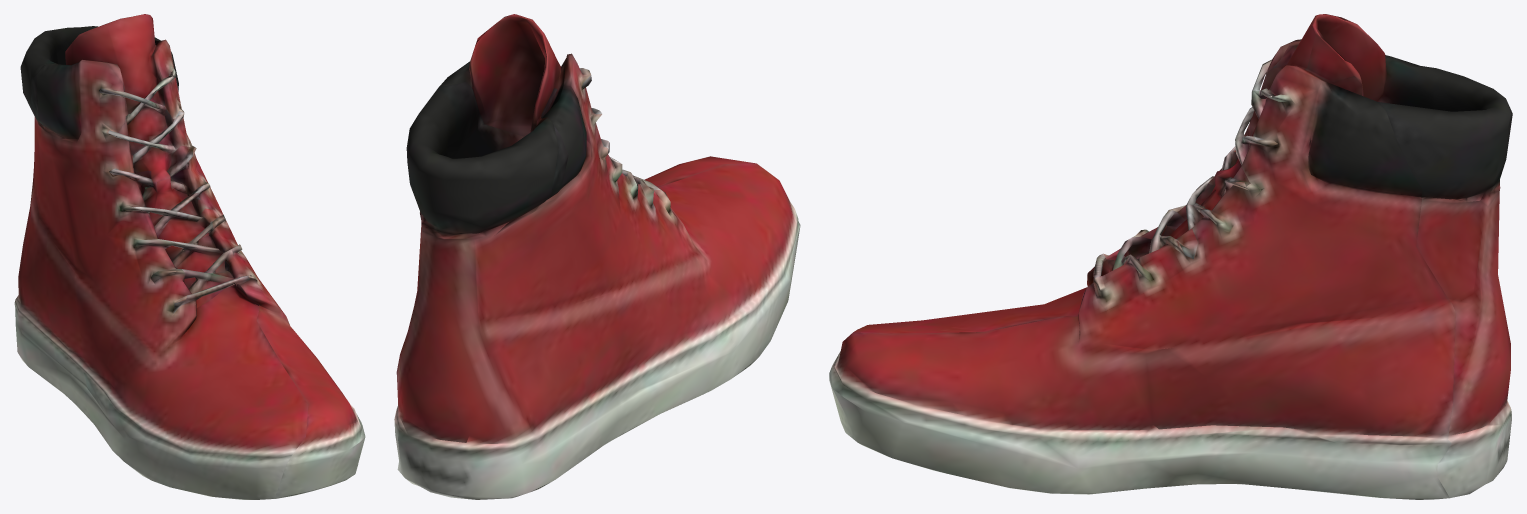
The model's file is gso_timberland_mens_earthkeepers_newmarket_6inch_cupsole_boot.glb.
3 views of the same model, side by side, from view 1: azimuth 30°, elevation 25°; view 2: azimuth 150°, elevation 25°; view 3: azimuth 270°, elevation 25° (orthographic). The views are drawn at different scales.
Visible parts, largest first — view 1: z-up-to-y-up; view 2: z-up-to-y-up; view 3: z-up-to-y-up.
Boxes of the visible parts, x1,y1,x2,y2 form: z-up-to-y-up: (14,14,365,499); z-up-to-y-up: (394,14,800,499); z-up-to-y-up: (829,14,1512,499).
Size of the model in its own units: 0.1051 by 0.2119 by 0.2939.
1 material, 1 textured.
